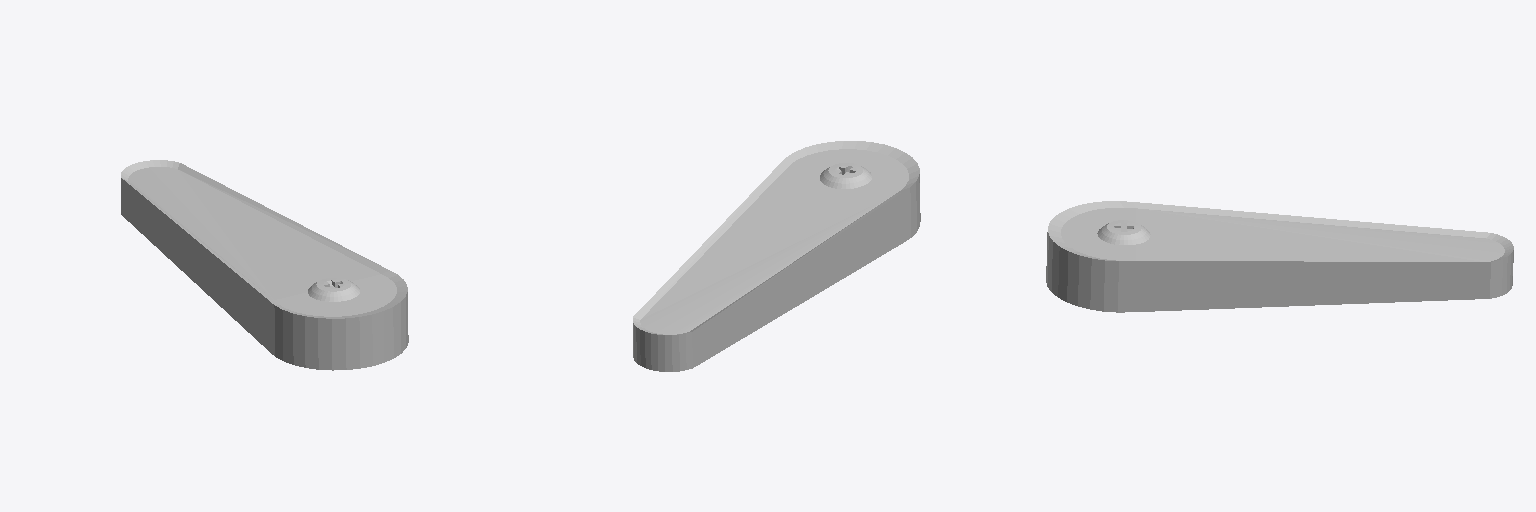
The model's file is flipper.obj.
3 views of the same model, side by side, from view 1: azimuth 30°, elevation 25°; view 2: azimuth 150°, elevation 25°; view 3: azimuth 270°, elevation 25° (orthographic).
Parts seen in each view (by area): view 1: Cylinder; view 2: Cylinder; view 3: Cylinder.
Boxes of the visible parts, <box> form: Cylinder: <box>121,160,408,370</box>; Cylinder: <box>633,141,920,371</box>; Cylinder: <box>1046,201,1513,312</box>.
Size of the model in its own units: 0.7329 by 0.3275 by 2.4.